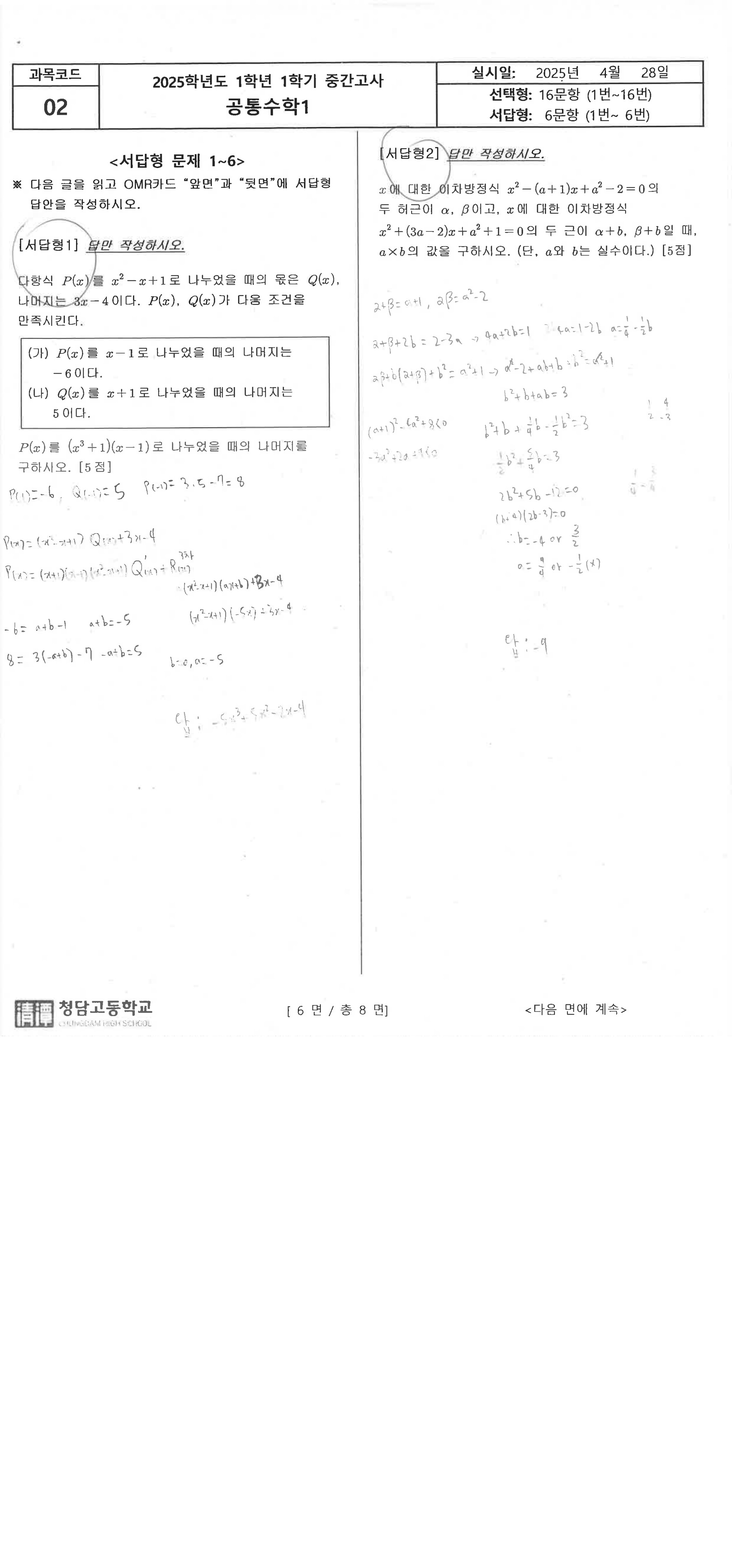problem: (14, 266, 346, 478), (373, 177, 705, 270)
